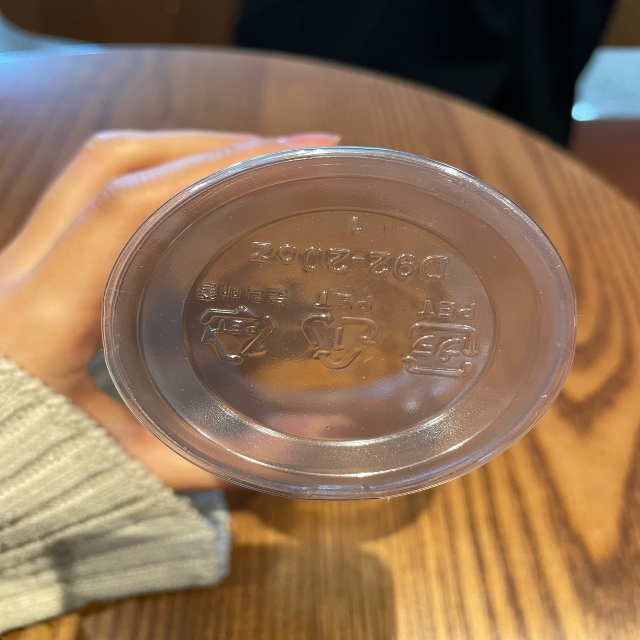pet: (192, 272, 290, 374), (296, 286, 380, 372), (403, 294, 479, 382)
